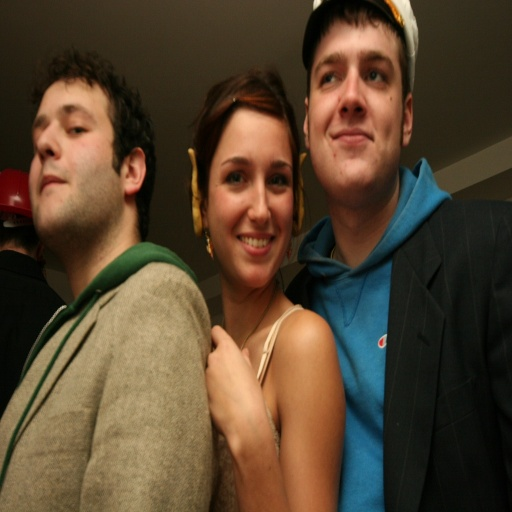hand: (203, 300, 275, 495)
